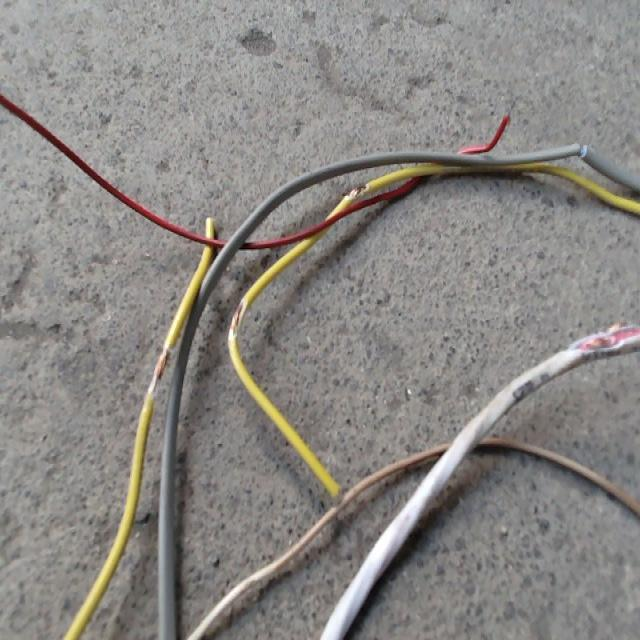-: (567, 321, 637, 355), (148, 348, 170, 389), (226, 299, 247, 341), (345, 181, 370, 203)
